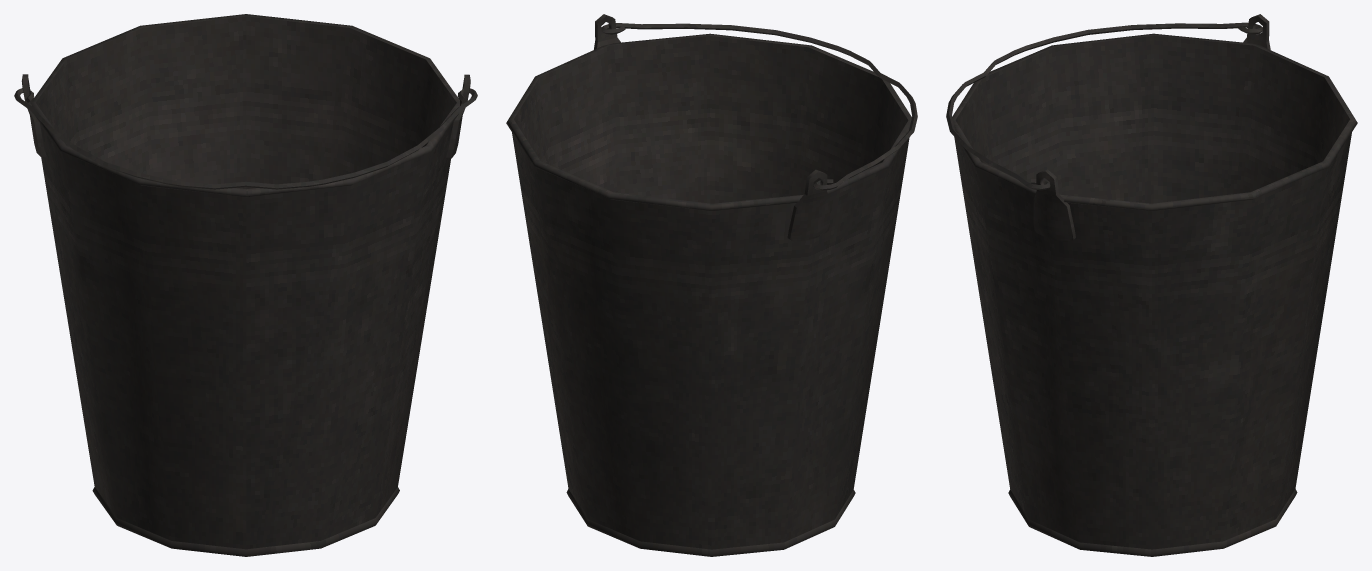
Rendered from bucket_mx_3.glb.
3 renders of one model, left to right at view 1: azimuth 30°, elevation 25°; view 2: azimuth 150°, elevation 25°; view 3: azimuth 270°, elevation 25°, orthographic. The views are drawn at different scales.
Visible parts, largest first — view 1: bucket_mx_3; view 2: bucket_mx_3; view 3: bucket_mx_3.
Boxes of the visible parts, bbox=[...] form: bucket_mx_3: bbox=[14, 14, 477, 556]; bucket_mx_3: bbox=[506, 14, 917, 556]; bucket_mx_3: bbox=[946, 14, 1357, 556].
Size of the model in its own units: 0.4299 by 0.4651 by 0.4298.
1 material, 1 textured.
